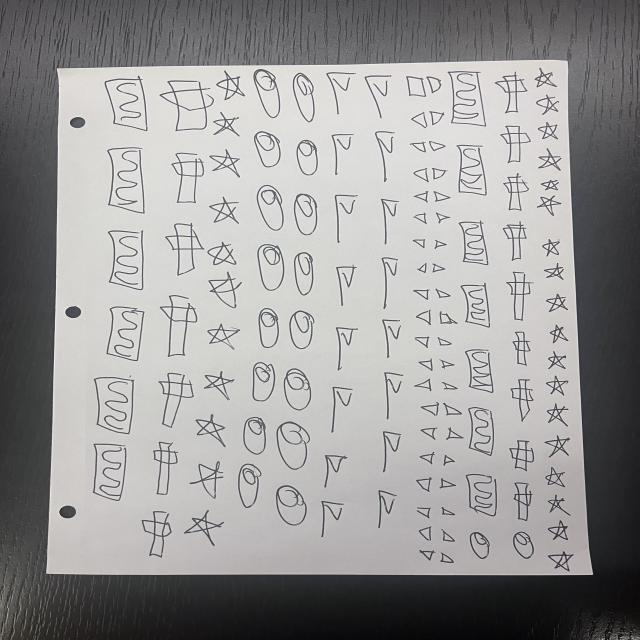Button: (192, 460, 226, 504), (194, 412, 228, 450), (183, 512, 224, 542), (205, 321, 242, 354), (208, 274, 240, 306), (202, 368, 234, 400), (204, 149, 244, 174), (207, 196, 244, 222), (213, 70, 243, 102), (205, 240, 239, 268), (212, 113, 243, 142), (542, 434, 574, 461), (534, 64, 560, 94), (546, 321, 571, 347), (534, 92, 562, 115), (536, 146, 562, 170), (546, 520, 573, 543), (542, 292, 570, 314), (546, 350, 574, 372), (548, 549, 576, 571), (541, 239, 567, 262), (536, 119, 564, 140), (538, 194, 564, 216), (545, 403, 569, 426), (544, 466, 566, 491), (546, 495, 571, 515), (545, 376, 567, 395), (546, 260, 564, 282), (539, 177, 562, 190)
Command: (369, 126, 402, 181), (321, 383, 356, 434), (326, 71, 360, 118), (373, 196, 404, 244), (329, 324, 358, 374), (363, 73, 395, 118), (331, 189, 357, 244), (374, 256, 402, 305), (372, 490, 407, 529), (328, 130, 357, 177), (376, 371, 406, 416), (330, 262, 358, 310), (379, 429, 405, 475), (378, 316, 403, 361), (321, 498, 346, 538), (320, 453, 347, 489)
IncDec: (404, 66, 442, 101), (412, 502, 461, 528), (406, 108, 449, 135), (414, 306, 457, 332), (412, 375, 457, 397), (416, 548, 460, 570), (410, 164, 448, 187), (409, 234, 450, 255), (413, 334, 458, 353), (420, 448, 460, 469), (410, 138, 448, 160), (418, 425, 462, 444), (416, 474, 456, 494), (417, 401, 463, 418), (417, 525, 454, 545), (412, 190, 449, 208), (411, 286, 452, 302), (414, 357, 457, 372), (410, 211, 452, 225), (414, 260, 448, 277)
Slider: (157, 79, 211, 136), (153, 225, 206, 282), (158, 290, 201, 360), (168, 150, 206, 204), (156, 369, 188, 433), (503, 372, 539, 420), (152, 439, 180, 495), (504, 270, 534, 322), (495, 71, 528, 116), (499, 124, 532, 166), (144, 507, 171, 558), (498, 174, 530, 212), (498, 220, 528, 260), (514, 479, 537, 523), (510, 330, 533, 368), (511, 438, 534, 470)
Text: (92, 143, 152, 216), (75, 441, 128, 506), (84, 376, 138, 438), (96, 74, 152, 133), (446, 70, 491, 134), (105, 225, 146, 294), (107, 306, 143, 368), (464, 403, 498, 466), (454, 217, 494, 270), (453, 141, 489, 199), (457, 282, 495, 331), (461, 473, 501, 519), (464, 348, 498, 396)
Toggle: (246, 66, 286, 118), (270, 418, 310, 468), (252, 241, 286, 292), (272, 481, 307, 528), (252, 186, 286, 234), (282, 367, 319, 411), (292, 188, 322, 240), (287, 138, 324, 180), (292, 73, 319, 127), (252, 127, 284, 171), (235, 465, 264, 512), (291, 246, 318, 296), (248, 357, 276, 405), (289, 308, 317, 353), (252, 308, 281, 350), (240, 413, 266, 457), (508, 531, 543, 559), (468, 531, 494, 560)
